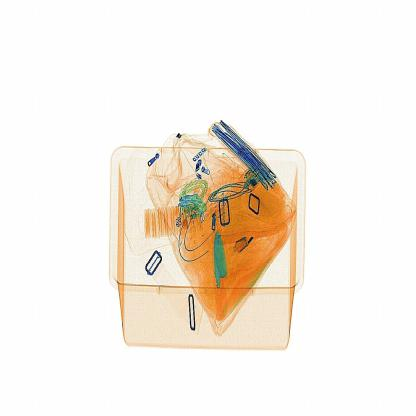wrench: (205, 231, 230, 304)
